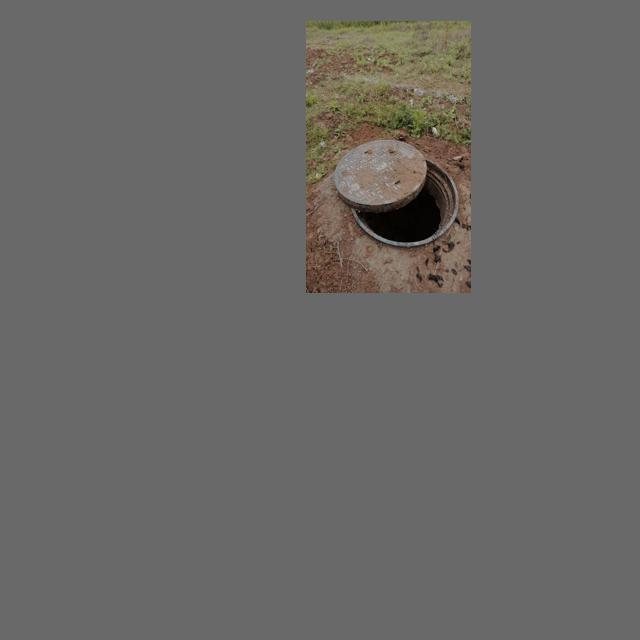uncovered: (331, 140, 460, 248)
